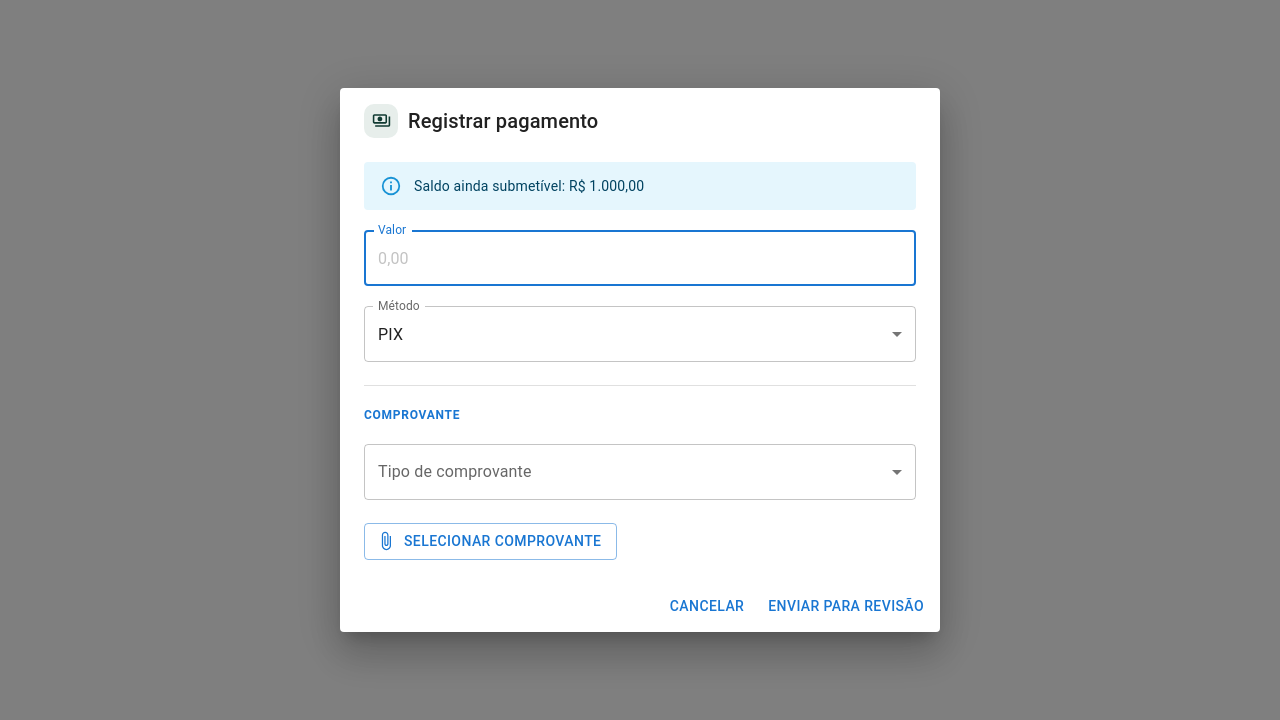
Test: SubmitPaymentDialog › mostra envio pendente até API responder
Step 1. Type "10,00" into the field labelled "Valor" → coordinates (640, 258), box 364,230 -> 916,286
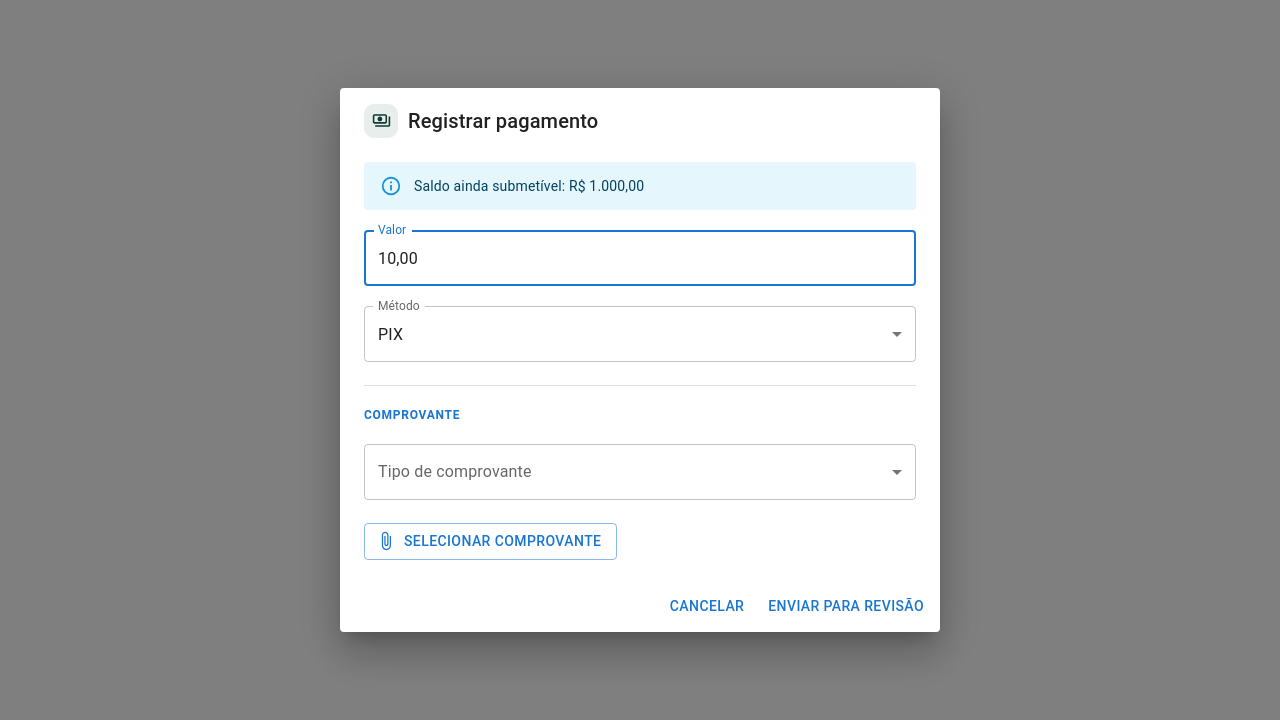
Step 2. Click the dropdown named "Método" → coordinates (391, 334), box 378,324 -> 403,344
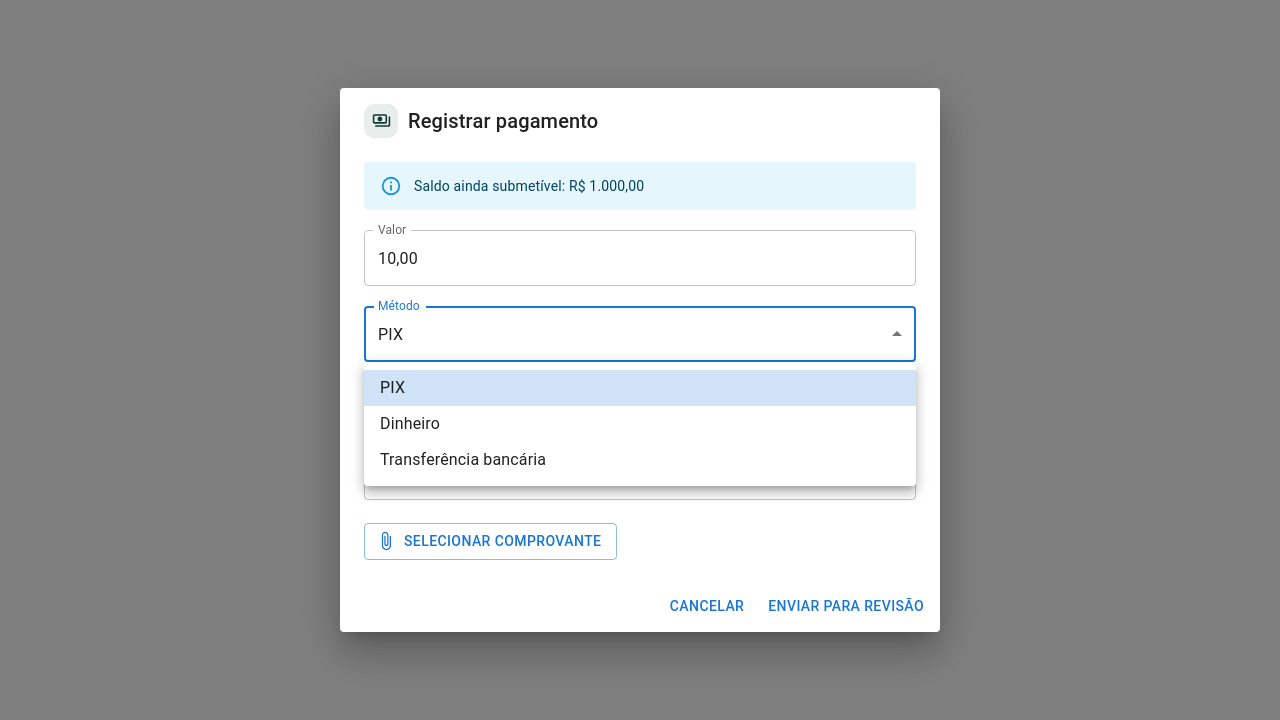
Step 3. Click the option "Dinheiro" → coordinates (410, 424), box 380,414 -> 440,433
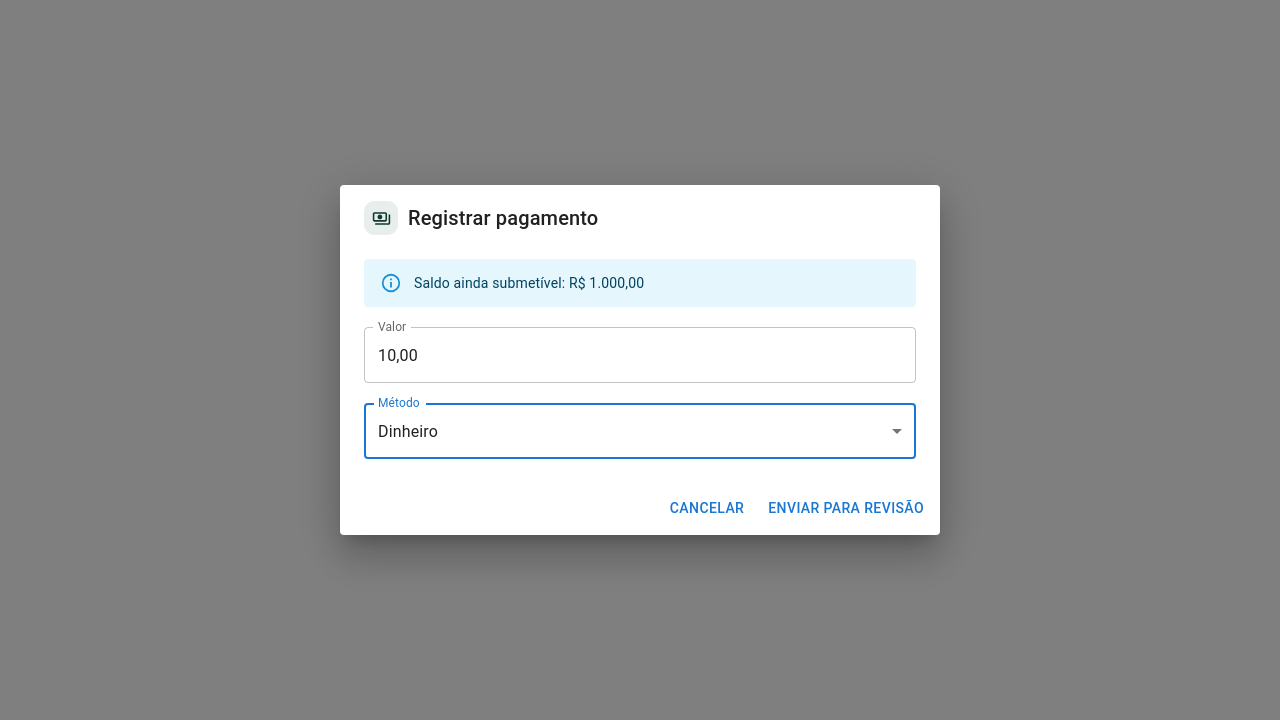
Step 4. Click the button "Enviar para revisão" → coordinates (846, 509), box 760,490 -> 932,527
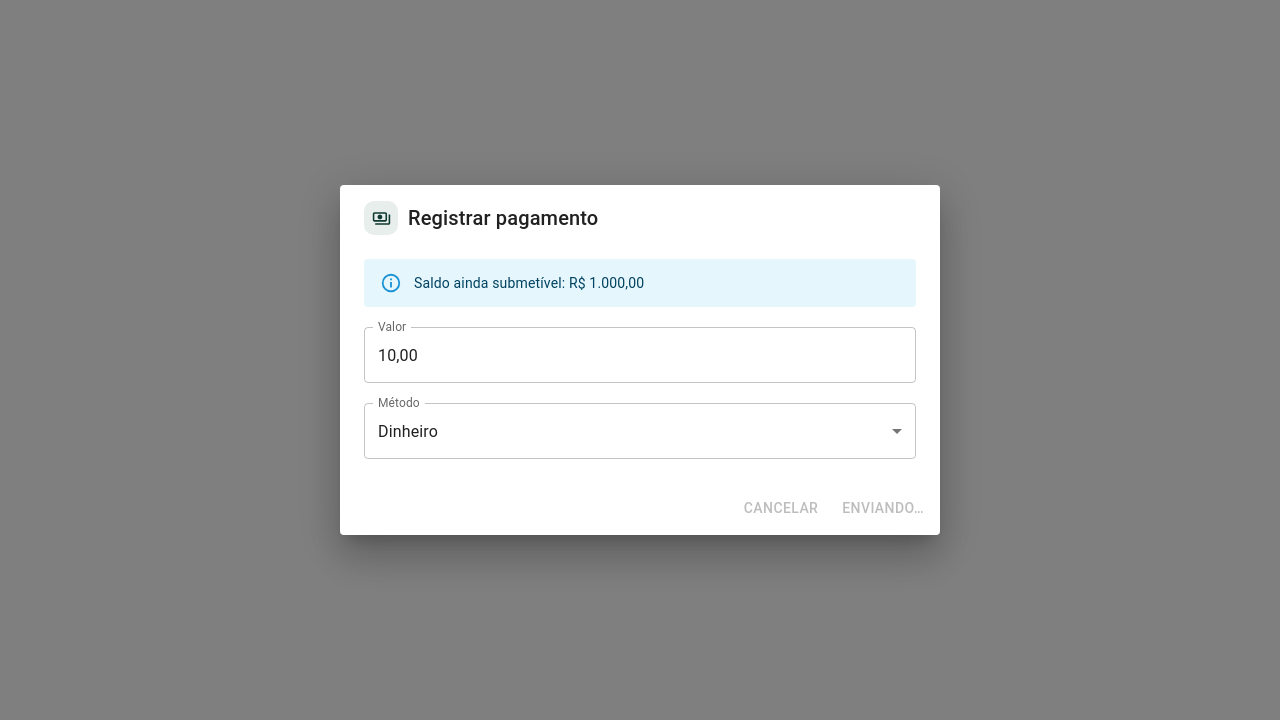
Result: the button "Enviando…" is disabled at 834,490 -> 932,527
